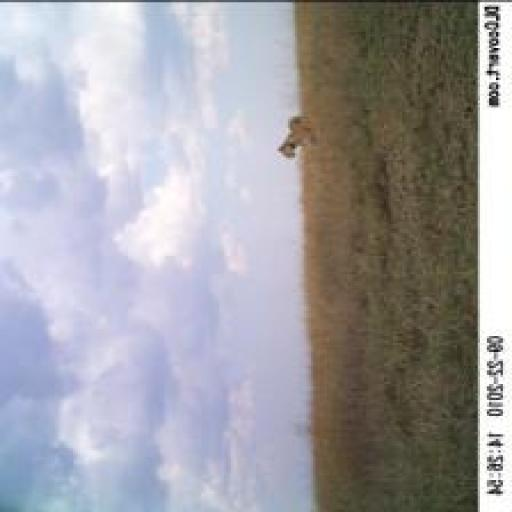lion: (270, 105, 319, 173)
